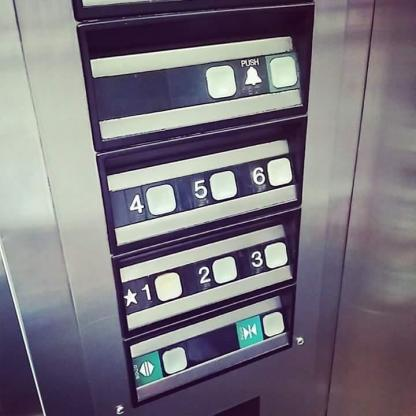2: (193, 247, 236, 293)
3: (244, 233, 288, 278)
4: (120, 174, 183, 225)
5: (186, 165, 240, 206)
6: (246, 150, 293, 198)
alarm: (234, 48, 302, 96)
close: (232, 306, 287, 350)
empty: (174, 54, 240, 108)
open: (128, 340, 193, 386)
s1: (119, 263, 185, 316)
